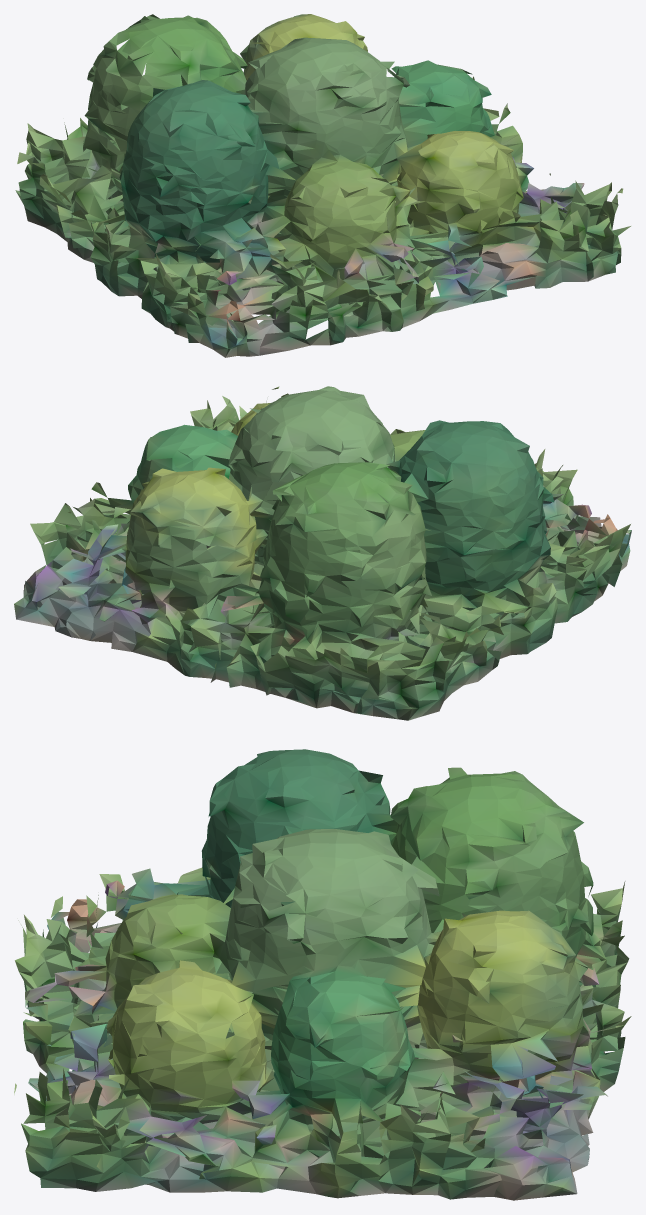
File: decoration_bush_cluster_lod0.glb
3 views of the same model, one above another, from view 1: azimuth 30°, elevation 25°; view 2: azimuth 150°, elevation 25°; view 3: azimuth 270°, elevation 25° (orthographic). The views are drawn at different scales.
Parts seen in each view (by area): view 1: world; view 2: world; view 3: world.
Part boxes in pixels (x1,y1,x2,y2): world: [15, 14, 630, 357]; world: [14, 386, 631, 720]; world: [14, 749, 631, 1200].
Bounding box in the file's own units: 1.88 × 0.7628 × 1.81.
